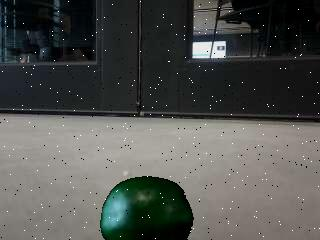Lime: (99, 177, 197, 240)
